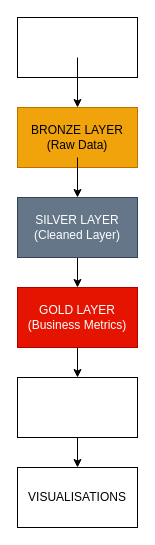
This 155x545 diagram has some shape labels left out. The centre of each missing label's shape, as x and y in pixels:
"CSV datasets" belongs at pixel 77 47.
"SQL ANALYTICS" belongs at pixel 77 407.
